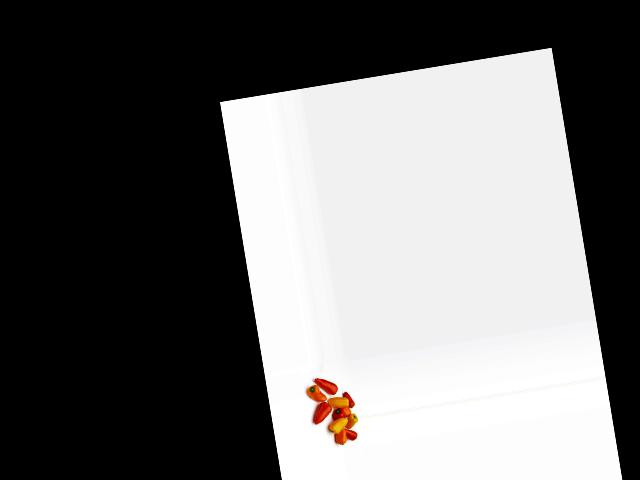bell_pepper: (343, 388, 356, 409)
